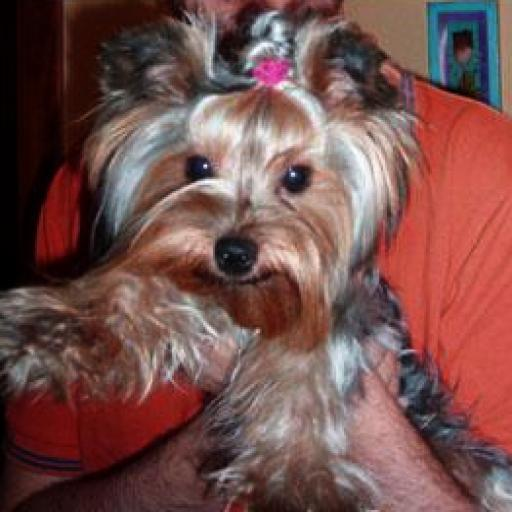dog_face: (108, 25, 372, 300)
